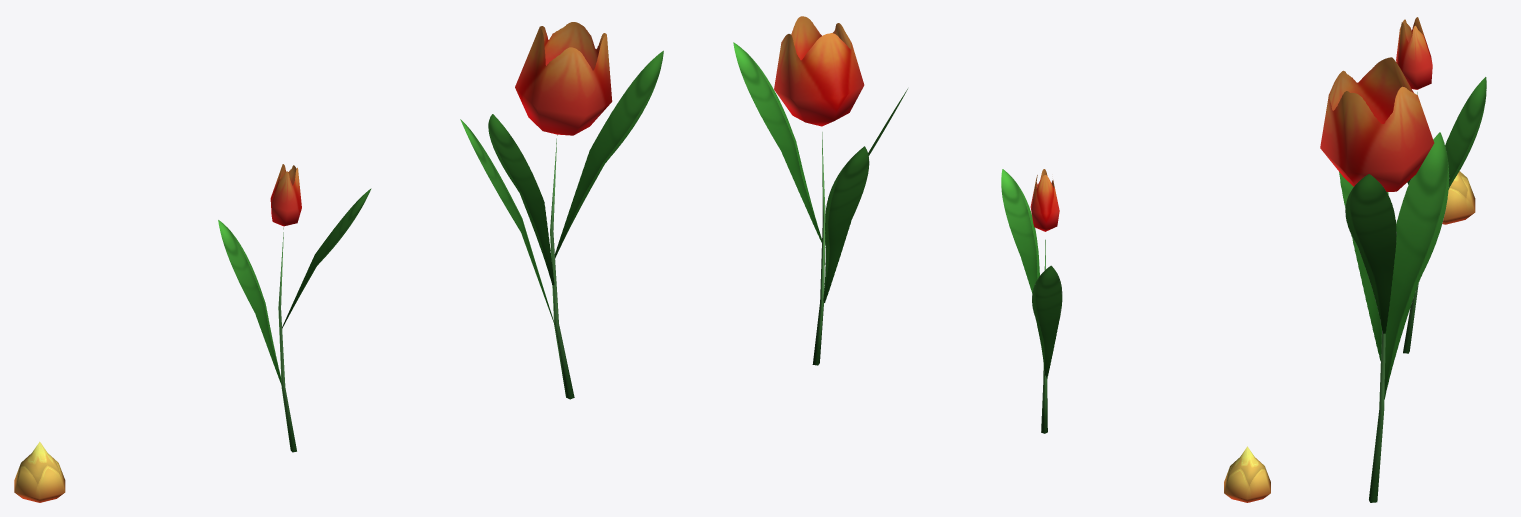
Rendered from Tulip_Red_Lv.FBX.
The picture shows the model from 3 angles, left to right: view 1: azimuth 30°, elevation 25°; view 2: azimuth 150°, elevation 25°; view 3: azimuth 270°, elevation 25°; orthographic projection. The views are drawn at different scales.
Parts seen in each view (by area): view 1: Tulip_Red_Lv3, Tulip_Red_Lv2, Tulip_Red_Lv1; view 2: Tulip_Red_Lv3, Tulip_Red_Lv2, Tulip_Red_Lv1; view 3: Tulip_Red_Lv3, Tulip_Red_Lv2, Tulip_Red_Lv1.
Part boxes in pixels (<box>): Tulip_Red_Lv3: <box>460,22,663,399</box>; Tulip_Red_Lv2: <box>218,164,371,452</box>; Tulip_Red_Lv1: <box>14,441,65,502</box>; Tulip_Red_Lv3: <box>733,16,907,365</box>; Tulip_Red_Lv2: <box>1001,169,1062,433</box>; Tulip_Red_Lv1: <box>1224,446,1270,502</box>; Tulip_Red_Lv3: <box>1320,57,1449,502</box>; Tulip_Red_Lv2: <box>1396,17,1486,353</box>; Tulip_Red_Lv1: <box>1442,171,1475,224</box>.
Bounding box in the file's own units: 193 × 112 × 48.18.
